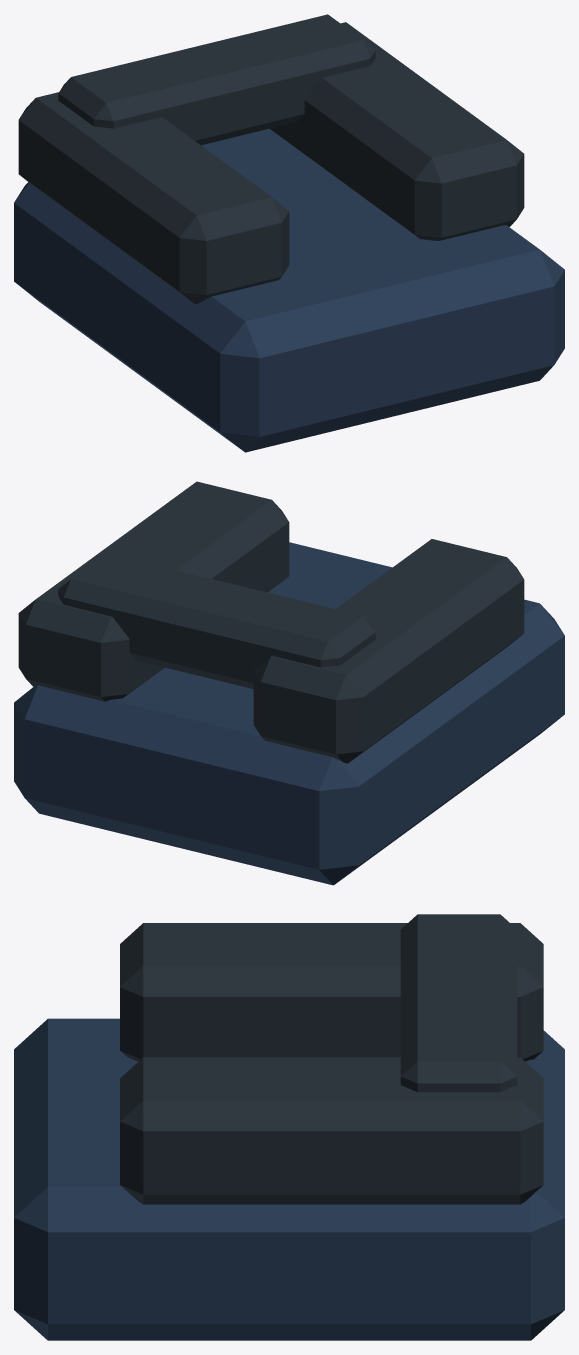
The model's file is Prop_Telephone.fbx.
3 views of the same model, one above another, from view 1: azimuth 30°, elevation 25°; view 2: azimuth 150°, elevation 25°; view 3: azimuth 270°, elevation 25° (orthographic). The views are drawn at different scales.
Visible parts, largest first — view 1: Base.002, HandsetEnd, HandsetEnd.001, HandsetBridge; view 2: Base.002, HandsetEnd, HandsetEnd.001, HandsetBridge; view 3: Base.002, HandsetEnd.001, HandsetEnd, HandsetBridge.
Part boxes in pixels (x1,y1,x2,y2): Base.002: (14,129,564,452); HandsetEnd: (18,92,289,303); HandsetEnd.001: (269,22,524,240); HandsetBridge: (58,14,375,145); Base.002: (14,542,564,885); HandsetEnd: (253,539,524,763); HandsetEnd.001: (18,481,289,701); HandsetBridge: (58,553,375,688); Base.002: (14,1018,564,1340); HandsetEnd.001: (120,1057,543,1204); HandsetEnd: (120,923,543,1061); HandsetBridge: (400,914,517,1092).
Bounding box in the file's own units: 0.22 × 0.14 × 0.26.
